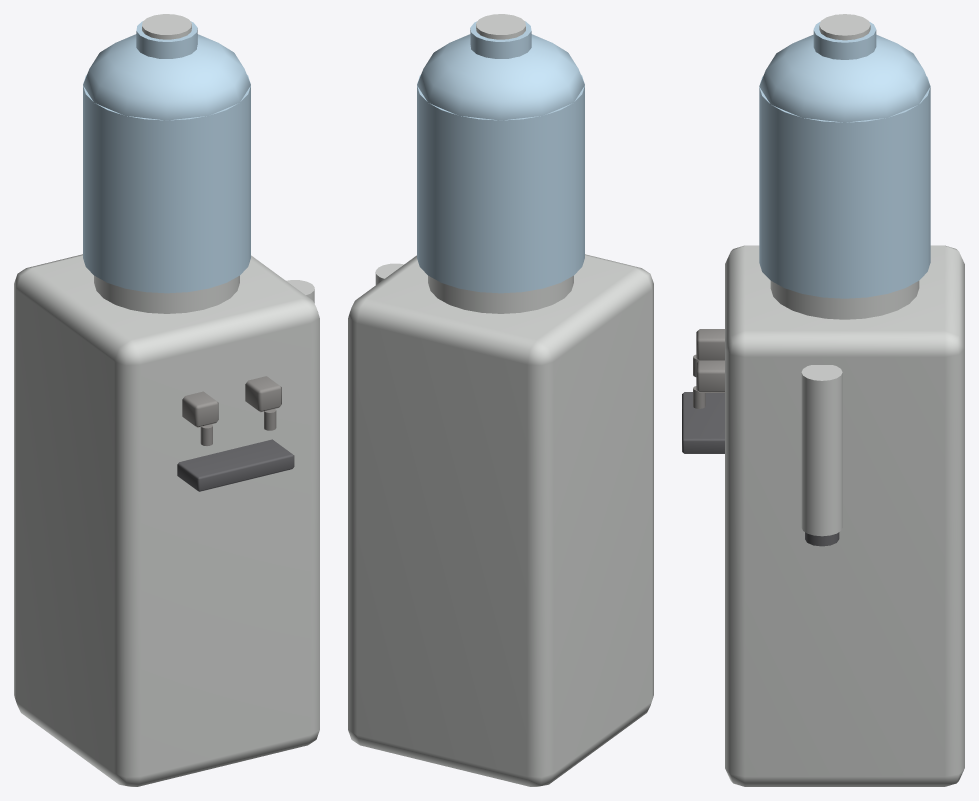
The model's file is cooler.glb.
3 views of the same model, side by side, from view 1: azimuth 30°, elevation 25°; view 2: azimuth 150°, elevation 25°; view 3: azimuth 270°, elevation 25° (orthographic).
Visible parts, largest first — view 1: furn_cooler; view 2: furn_cooler; view 3: furn_cooler.
Part boxes in pixels (x1=…): furn_cooler: x1=14, y1=14, x2=319, y2=786; furn_cooler: x1=348, y1=14, x2=653, y2=786; furn_cooler: x1=682, y1=14, x2=964, y2=786.
Bounding box in the file's own units: 0.486 × 1.39 × 0.495.
